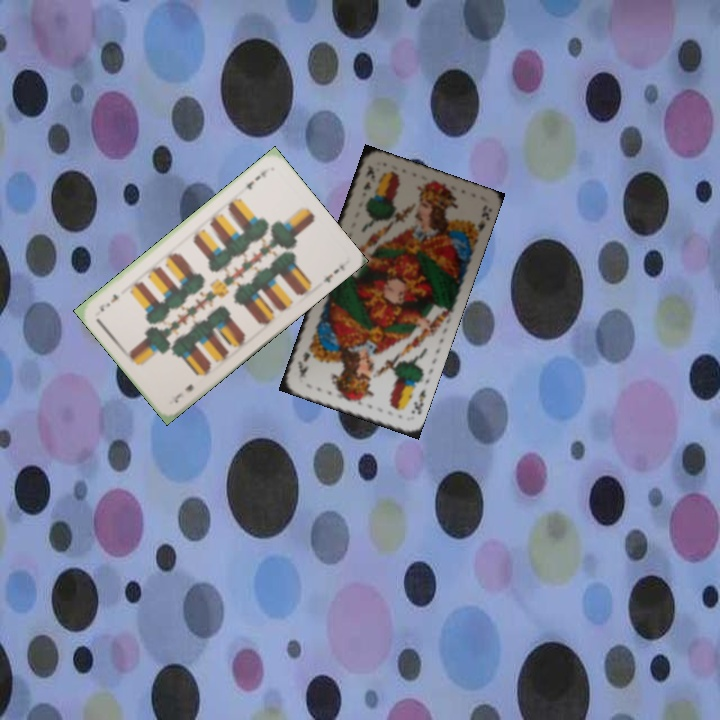E7: (242, 165, 272, 192), (170, 380, 196, 406)
EK: (407, 385, 428, 417), (360, 161, 378, 193)
